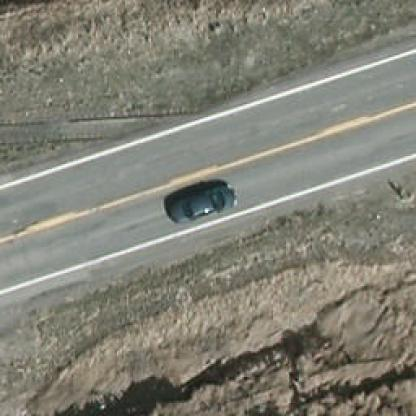car: (166, 182, 239, 223)
